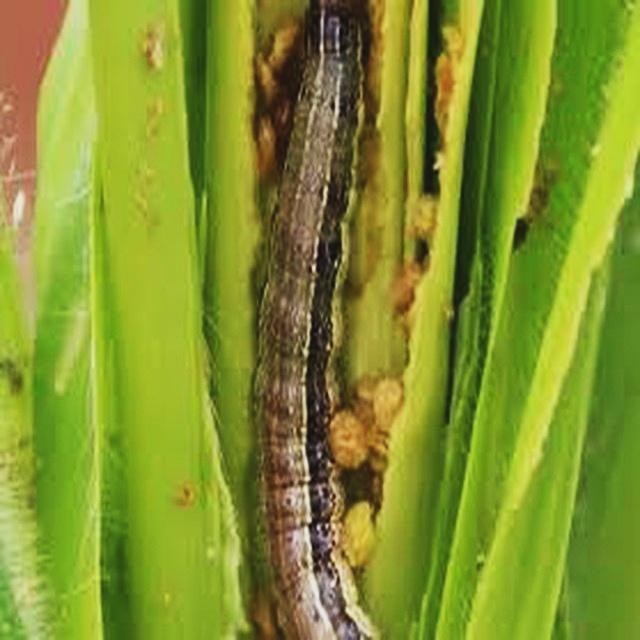worm: (248, 1, 385, 640)
